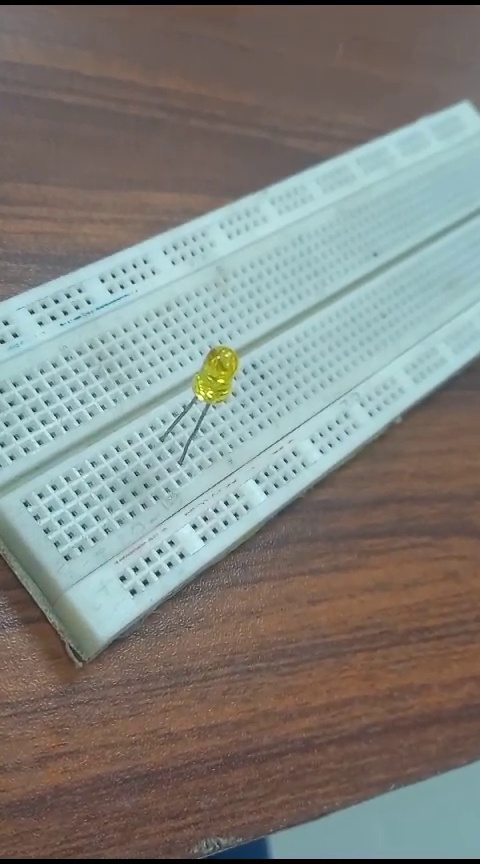LED: (163, 335, 250, 464)
